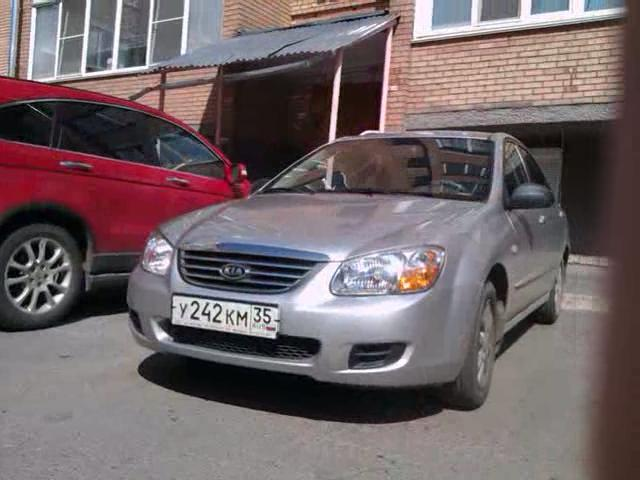car license plate: (168, 293, 282, 344)
